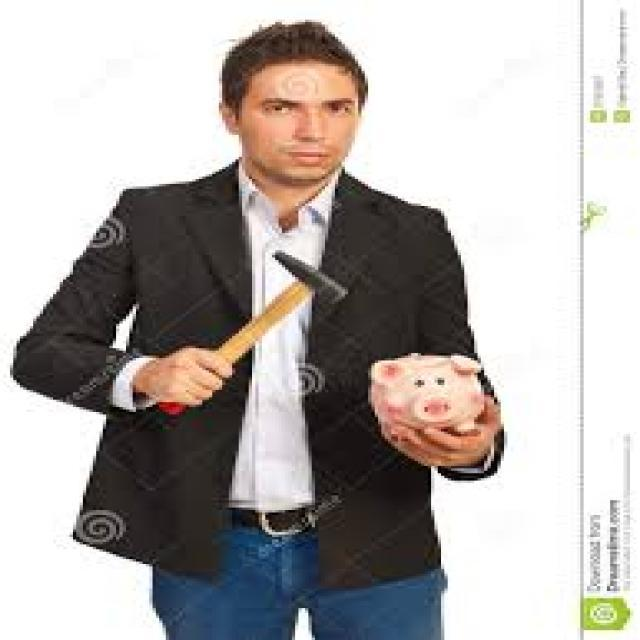hammer: (148, 248, 354, 419)
